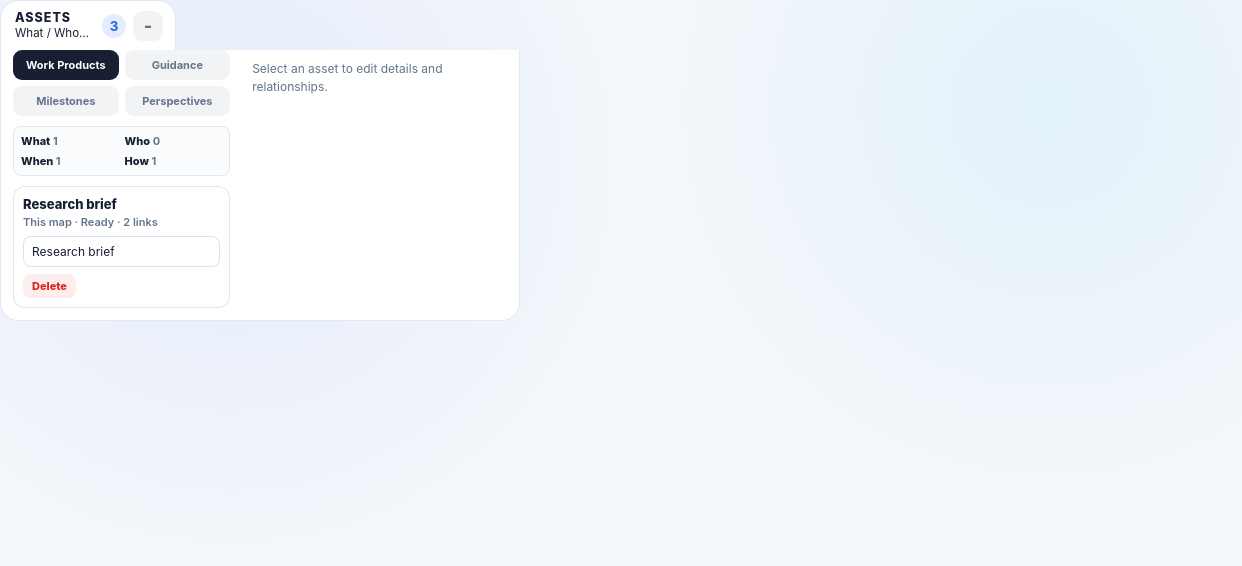
Scenario: ProcessAssetsPanel › shows work products, guidance, milestones, and perspectives
The image size is (1242, 566).
Expected: the element named "Process completeness" shows "What 1", [13,126,230,176]
Expected: the element named "Process completeness" shows "Who 0", [13,126,230,176]
Click the button "Guidance" at (177, 65), box [125,50,230,80]
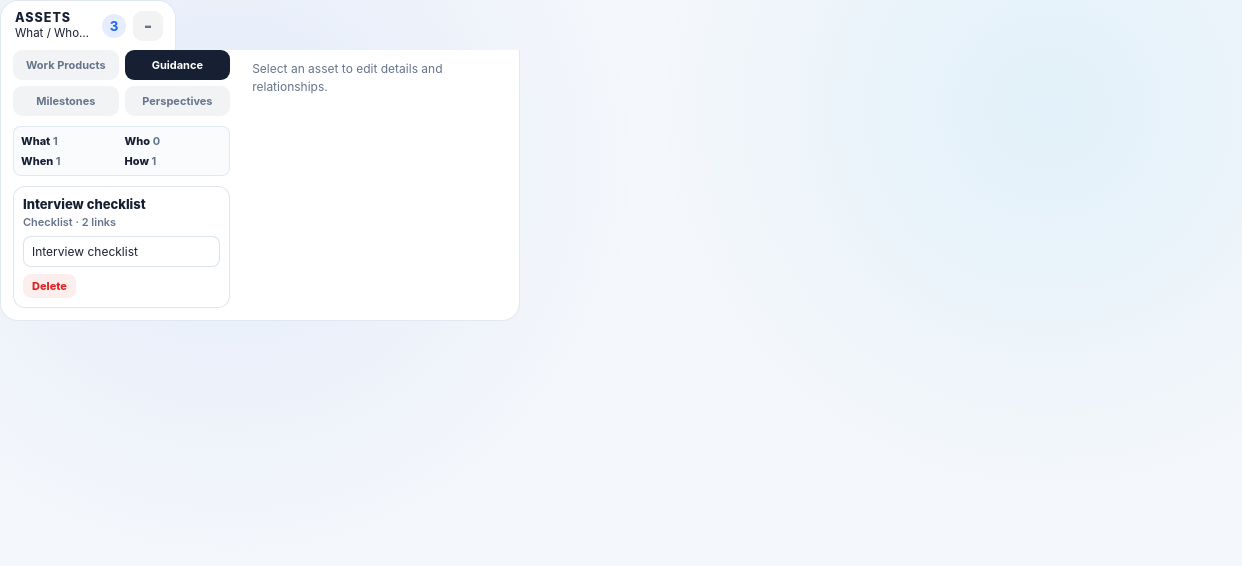
Expected: the text "Interview checklist" is shown, [23,196,146,212]
Click the button "Milestones" at (66, 101), box [13,86,119,116]
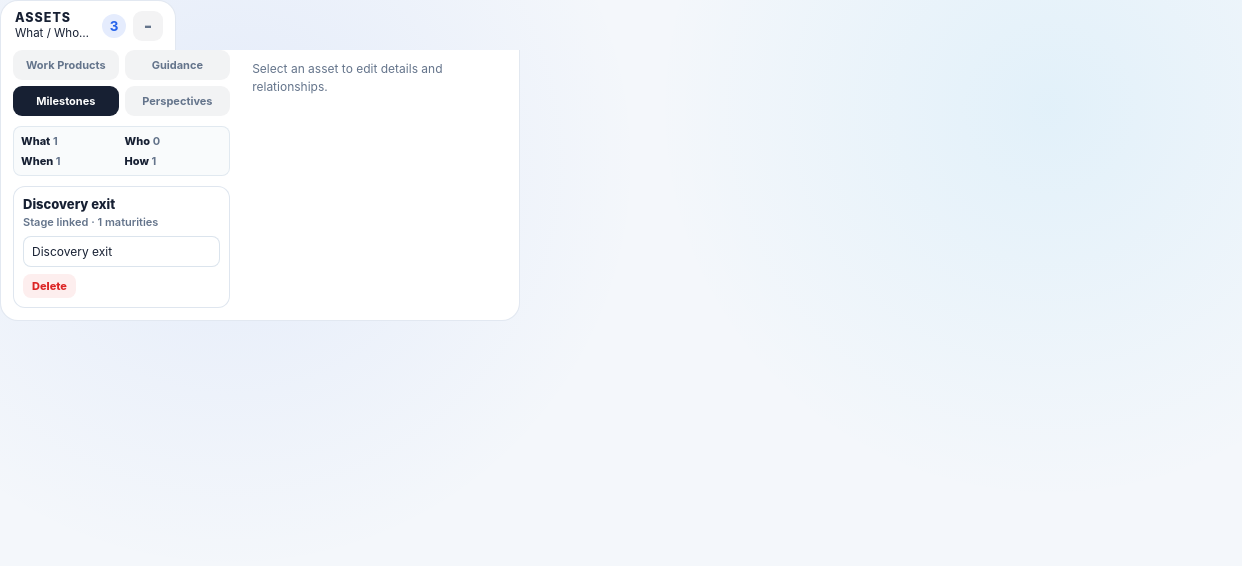
Expected: the text "Discovery exit" is shown, [23,196,115,212]
Click the button "Perspectives" at (177, 101), box [125,86,230,116]
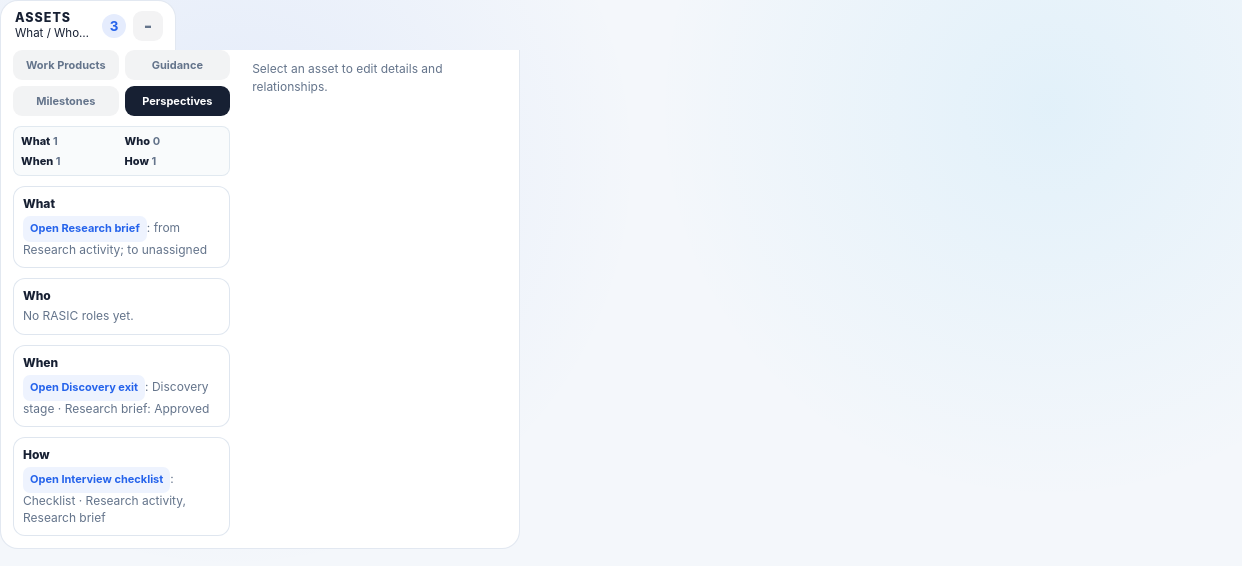
Expected: the heading "What" is shown, [23,196,55,211]
Expected: the heading "Who" is shown, [23,288,51,303]
Expected: the heading "When" is shown, [23,355,58,370]
